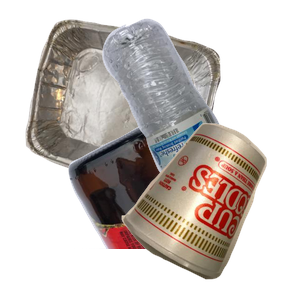glass: (66, 120, 300, 300)
metal: (23, 17, 236, 197)
plastic: (100, 16, 300, 196)
trash: (119, 121, 300, 300)
